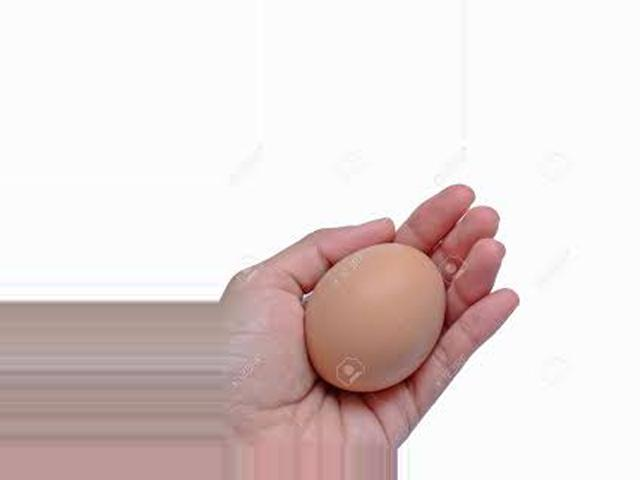egg: (304, 243, 446, 390)
